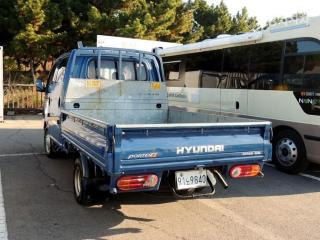0: (202, 174, 206, 185)
1: (182, 177, 186, 187)
4: (198, 175, 202, 185)
8: (194, 175, 199, 185)
9: (177, 176, 182, 186), (190, 175, 194, 185)
노: (185, 177, 190, 187)
